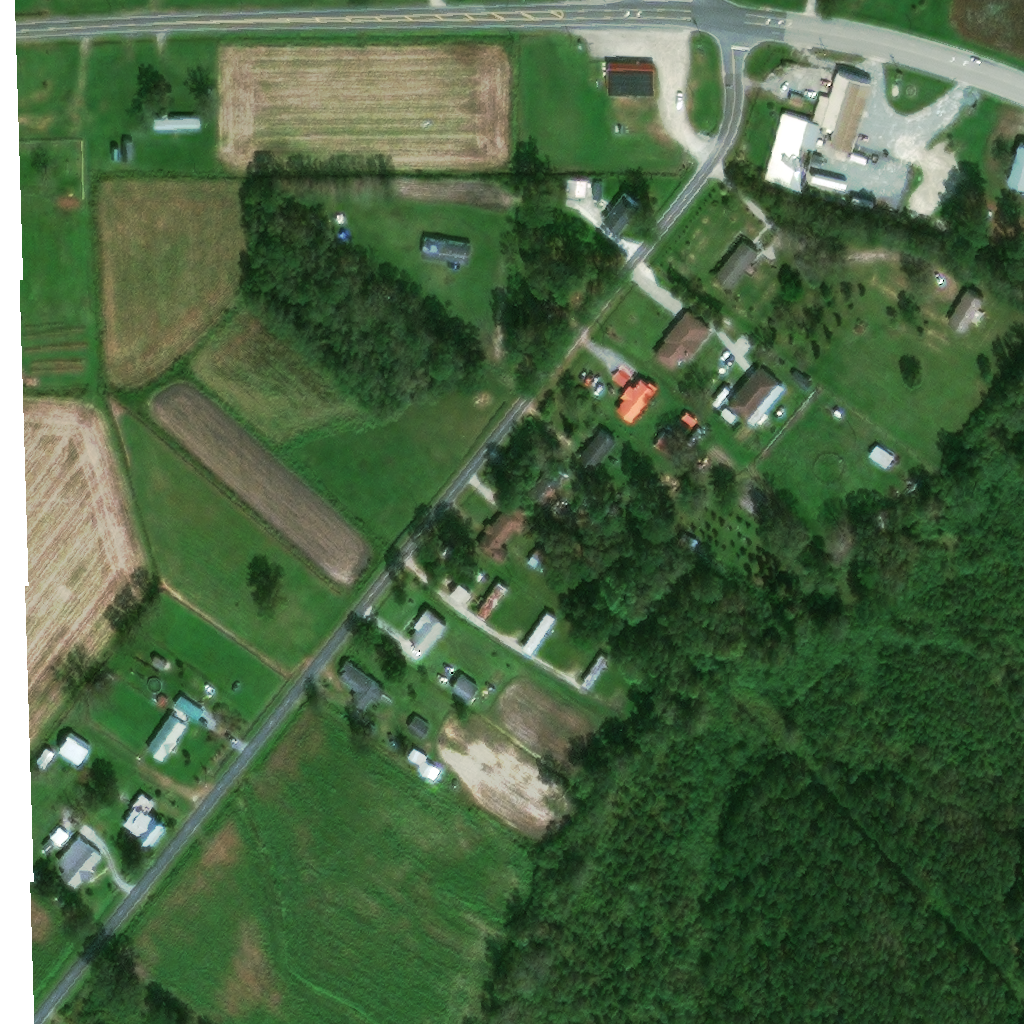no_damage: (813, 72, 875, 153), (764, 115, 827, 192), (653, 312, 715, 374), (726, 365, 786, 427), (477, 503, 529, 565), (56, 836, 106, 890), (340, 662, 388, 712), (122, 794, 167, 846), (714, 241, 759, 291), (146, 716, 189, 762), (945, 288, 986, 335), (605, 64, 656, 99), (616, 380, 658, 422), (410, 611, 451, 654), (577, 428, 617, 472), (603, 194, 643, 235), (523, 613, 558, 657), (423, 239, 474, 265), (535, 462, 570, 499), (478, 583, 509, 620), (57, 733, 92, 765), (582, 655, 612, 691), (653, 428, 686, 460), (528, 541, 557, 575), (450, 676, 482, 704), (176, 696, 208, 724), (1005, 144, 1024, 189), (154, 115, 204, 131), (795, 254, 826, 277), (868, 446, 895, 472), (408, 718, 433, 742), (418, 761, 443, 783), (677, 534, 701, 556), (790, 372, 814, 394), (451, 583, 475, 604), (464, 564, 487, 583), (688, 428, 707, 449), (408, 750, 431, 767), (567, 182, 588, 200), (52, 829, 71, 847), (39, 750, 58, 768), (153, 657, 171, 673), (788, 97, 808, 111), (720, 409, 737, 425), (682, 412, 698, 428), (676, 420, 692, 435), (124, 143, 136, 162), (43, 842, 60, 855), (594, 184, 606, 202), (367, 726, 381, 741), (158, 697, 173, 710), (113, 148, 124, 162)
